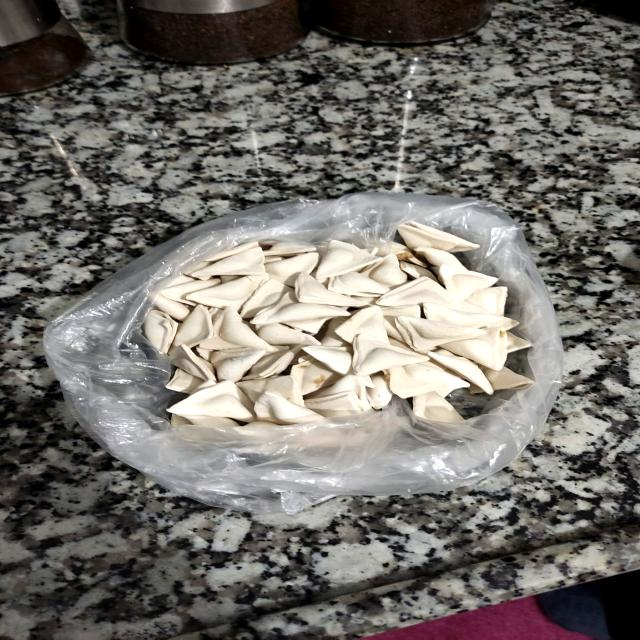turkish dumplings: (85, 214, 572, 463)
